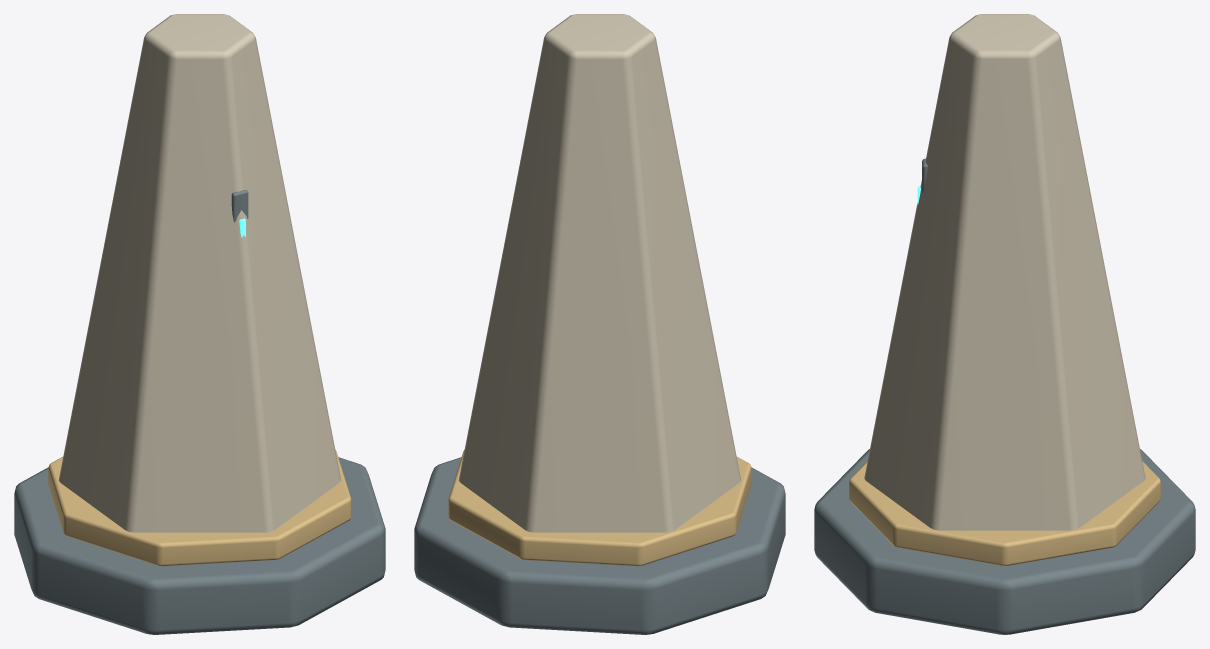
File: SM_Waystone_Rune_01.fbx
The picture shows the model from 3 angles, left to right: view 1: azimuth 30°, elevation 25°; view 2: azimuth 150°, elevation 25°; view 3: azimuth 270°, elevation 25°; orthographic projection.
Visible parts, largest first — view 1: SM_Waystone_Rune_01; view 2: SM_Waystone_Rune_01; view 3: SM_Waystone_Rune_01.
Part boxes in pixels (box(x1,y1,x2,y2)): SM_Waystone_Rune_01: box(14, 14, 385, 634); SM_Waystone_Rune_01: box(414, 14, 785, 634); SM_Waystone_Rune_01: box(814, 14, 1195, 634).
Size of the model in its own units: 1.48 by 2.26 by 1.48.
